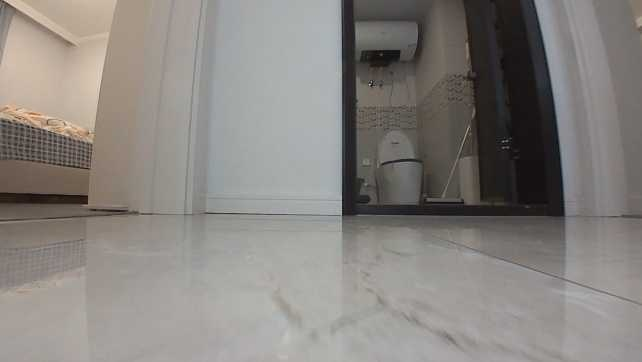door_sill: (352, 195, 543, 214)
toilet: (375, 126, 430, 201)
